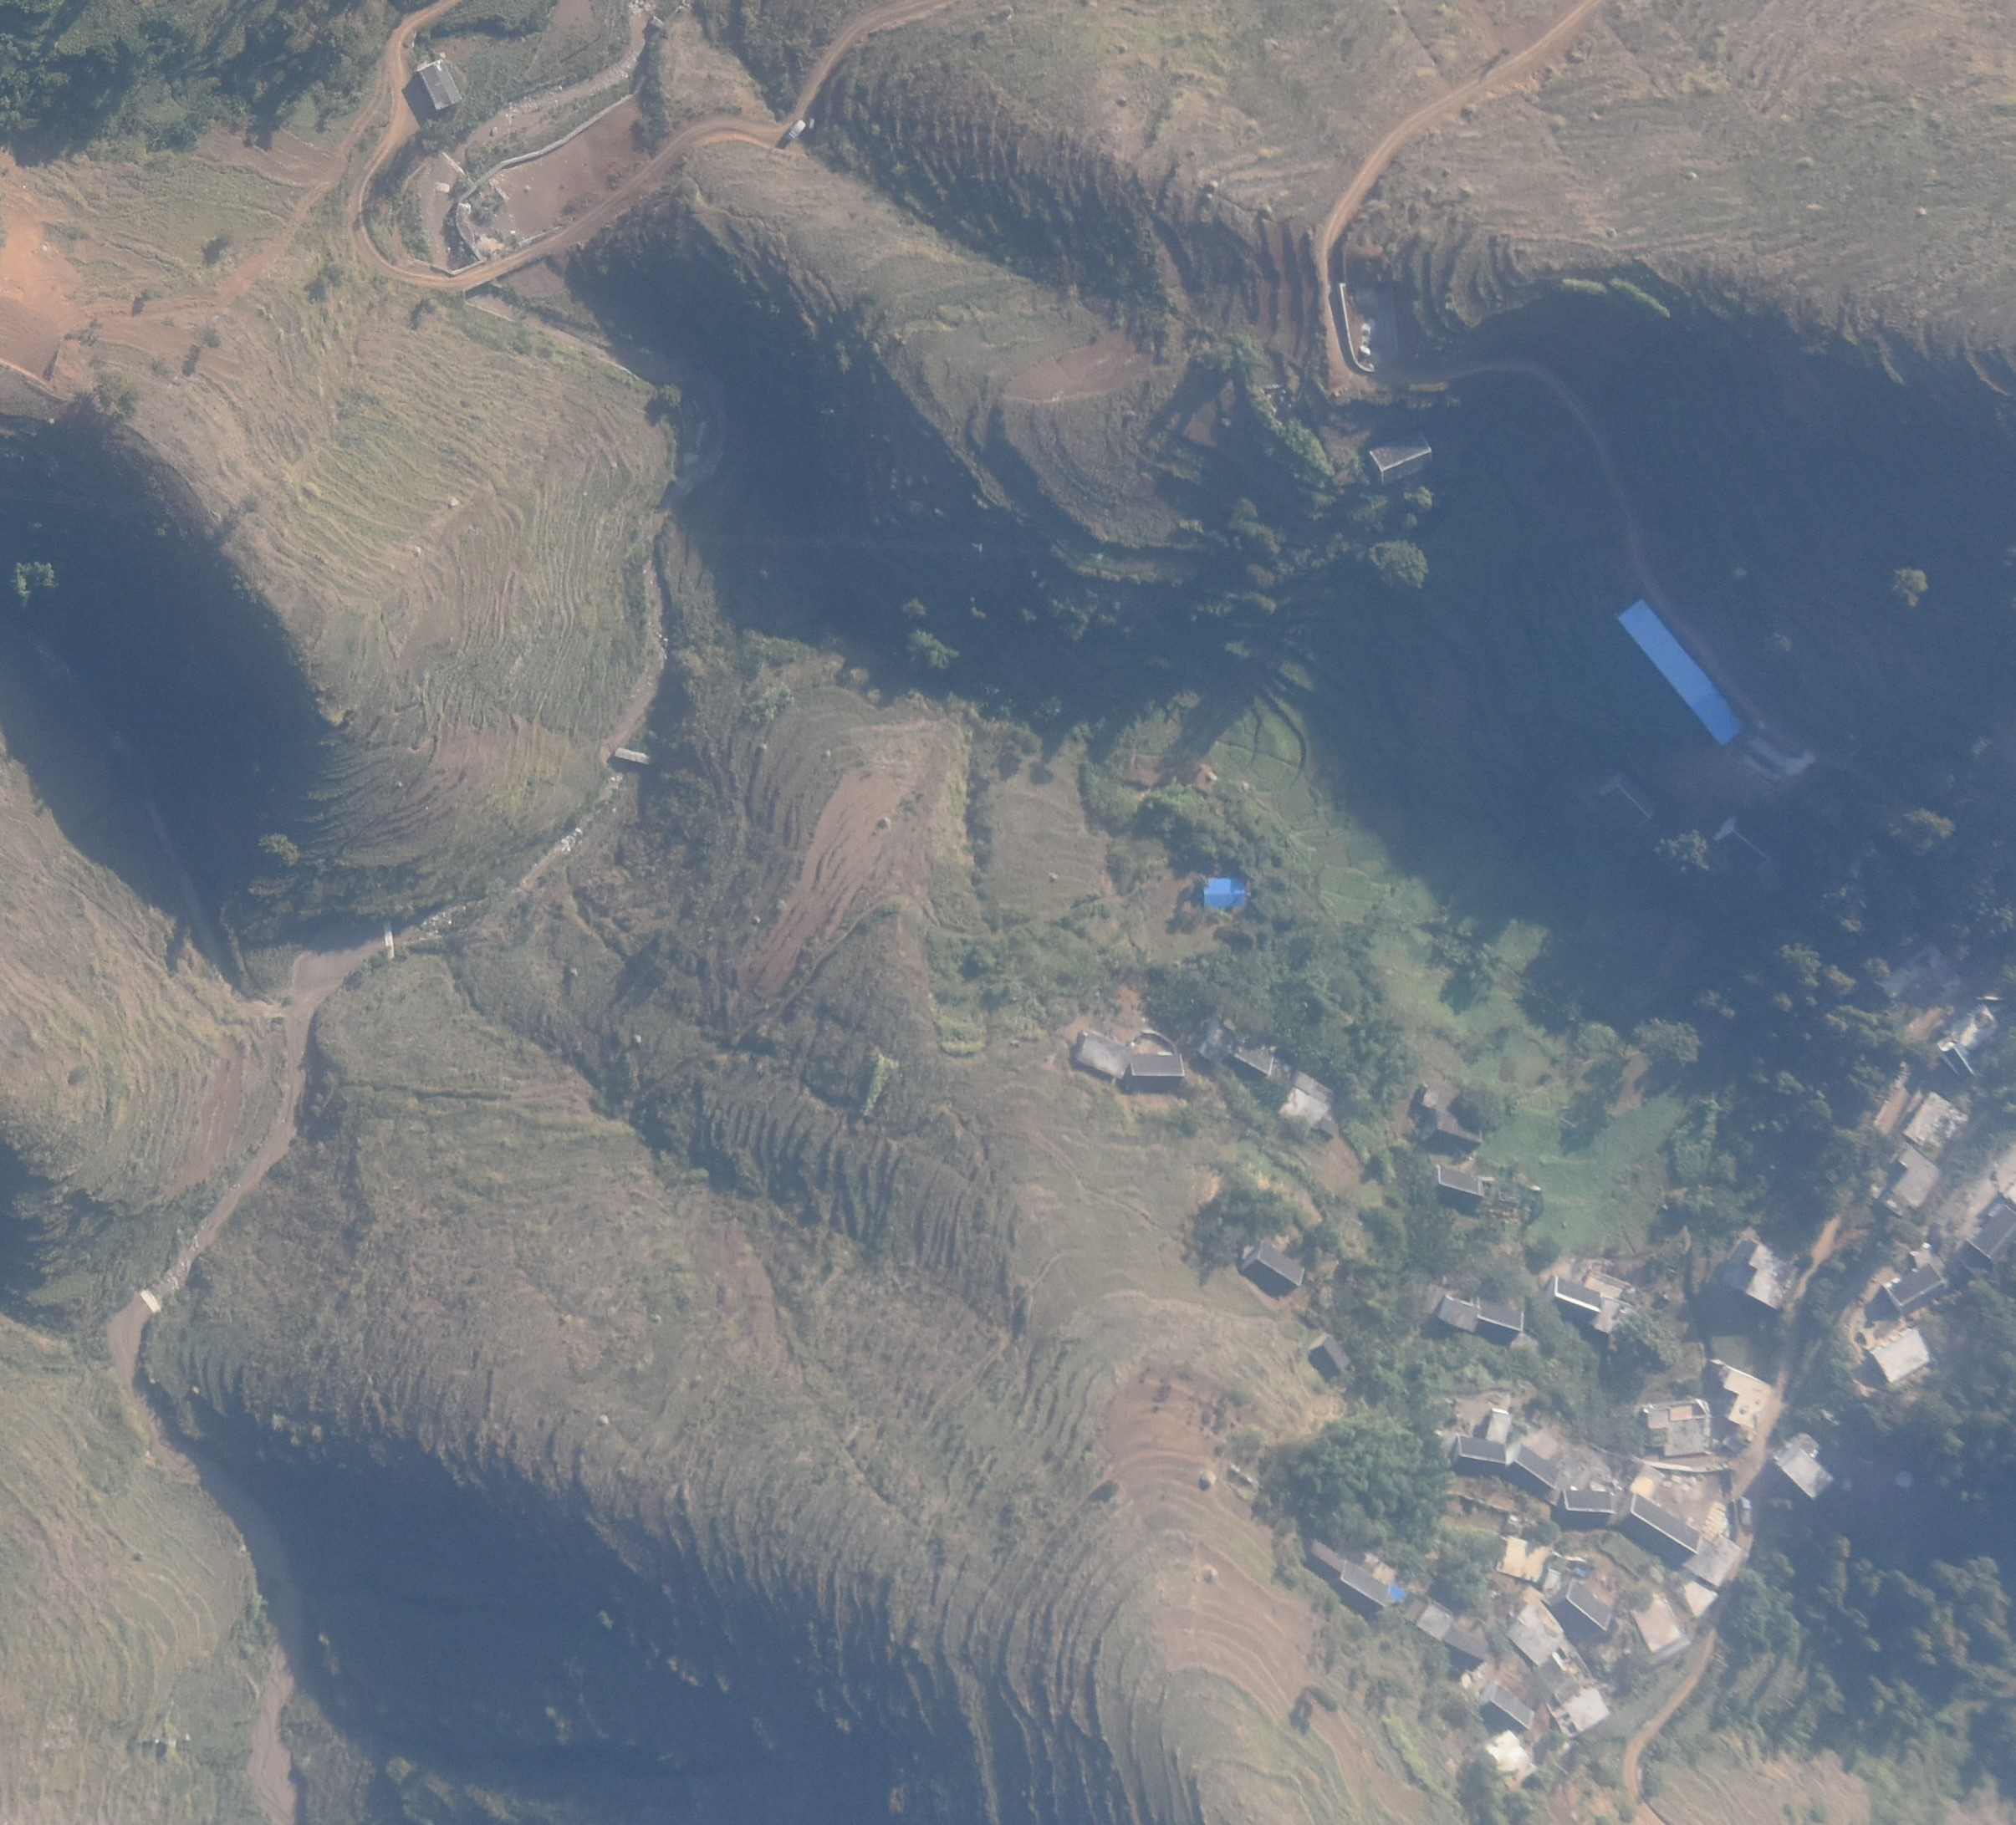building: (1617, 1493, 1698, 1570), (1726, 1237, 1800, 1312), (1630, 1590, 1689, 1669), (1278, 1071, 1338, 1147), (1907, 1091, 1970, 1161), (1419, 1082, 1484, 1147), (1888, 1142, 1946, 1214), (1637, 1402, 1712, 1456), (1716, 1358, 1774, 1428), (1238, 1238, 1307, 1296), (1777, 1433, 1833, 1502), (1867, 1328, 1935, 1384), (1498, 1533, 1565, 1590), (1505, 1604, 1559, 1669), (1879, 1263, 1948, 1314), (1591, 1268, 1638, 1337), (1370, 430, 1433, 481), (1544, 1686, 1609, 1735), (1486, 1728, 1537, 1790), (1600, 771, 1656, 826), (1967, 1203, 2016, 1265), (1716, 813, 1770, 868), (1558, 1579, 1612, 1634), (1075, 1028, 1129, 1080), (1507, 1440, 1558, 1497), (1340, 1558, 1387, 1616), (1668, 1567, 1721, 1618), (1545, 1272, 1600, 1321), (1479, 1683, 1533, 1730), (1953, 1001, 1998, 1052), (1452, 1435, 1505, 1477), (1700, 1535, 1742, 1588), (1473, 1298, 1523, 1342), (421, 58, 462, 111), (1433, 1165, 1484, 1205), (1127, 1054, 1185, 1087), (1231, 1035, 1275, 1078), (1444, 1625, 1489, 1667), (1559, 1491, 1612, 1525), (1196, 1019, 1231, 1066), (1310, 1337, 1350, 1377), (1415, 1600, 1456, 1641), (1436, 1296, 1479, 1331), (1307, 1540, 1342, 1581), (1946, 1043, 1983, 1080), (1203, 878, 1245, 910), (1487, 1409, 1508, 1442)
landslide: (472, 11, 655, 137)
prefabricated-house: (1617, 597, 1744, 747), (1387, 1584, 1407, 1604)
vehicle: (787, 119, 806, 141), (1740, 1498, 1753, 1526)
well: (1895, 1470, 1914, 1488)
